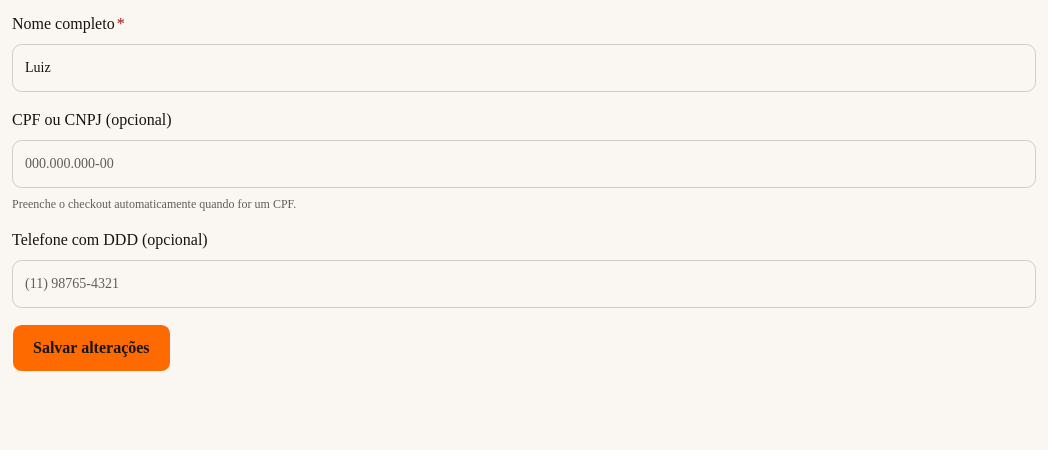
Test case: saves name and phone edited together with a single button
Expected: the number of buttons is 1, [12,324,171,372]
Replace the text in the field labelled "Nome completo*" with "Luiz Carlos" at (524, 68), box [12,44,1036,92]
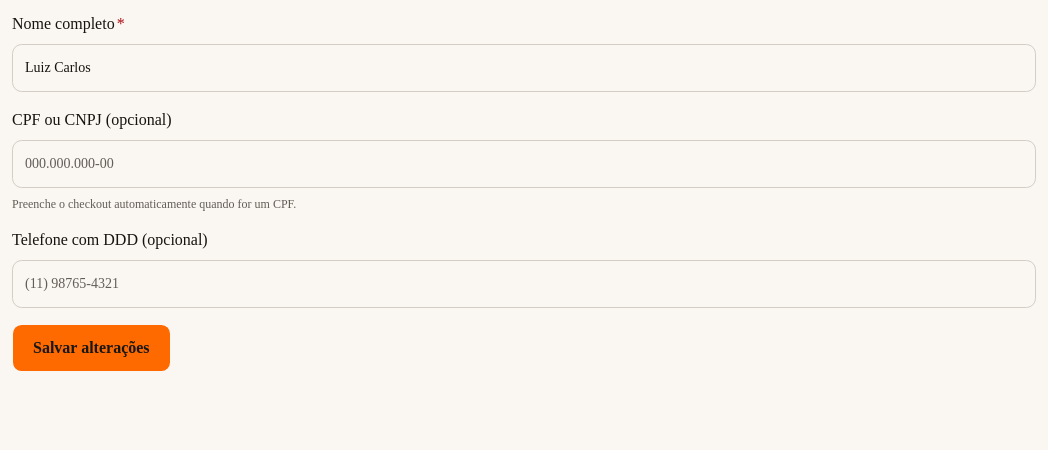
Type "11987654321" into the field labelled "Telefone com DDD (opcional)" at (524, 284), box [12,260,1036,308]
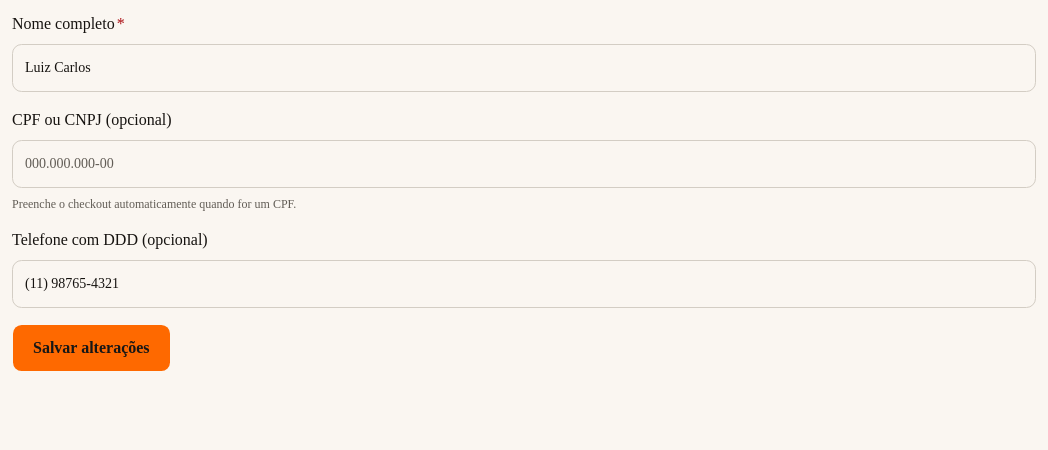
Click the button "Salvar alterações" at (91, 348), box [12,324,171,372]
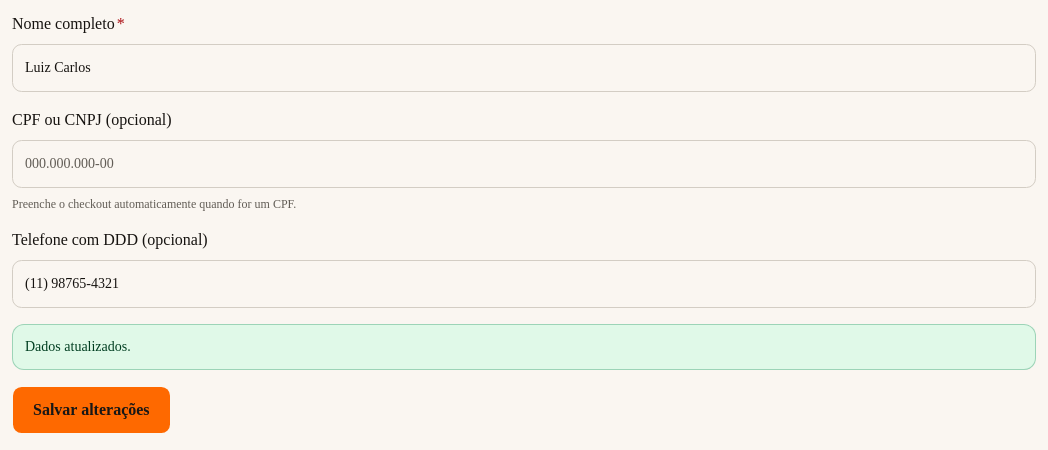
Expected: the message reads "Dados atualizados.", [25,339,131,354]
